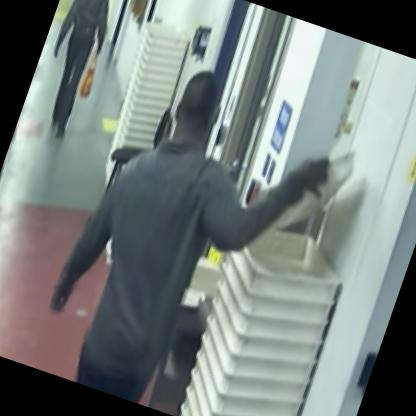Human Body: (20, 37, 359, 415), (17, 0, 142, 152)
